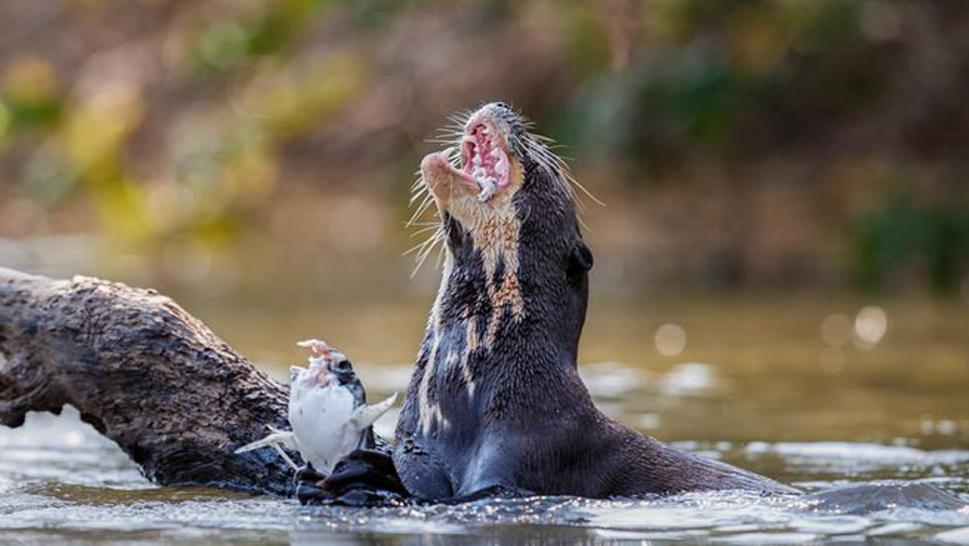meerkat: (380, 83, 950, 546)
